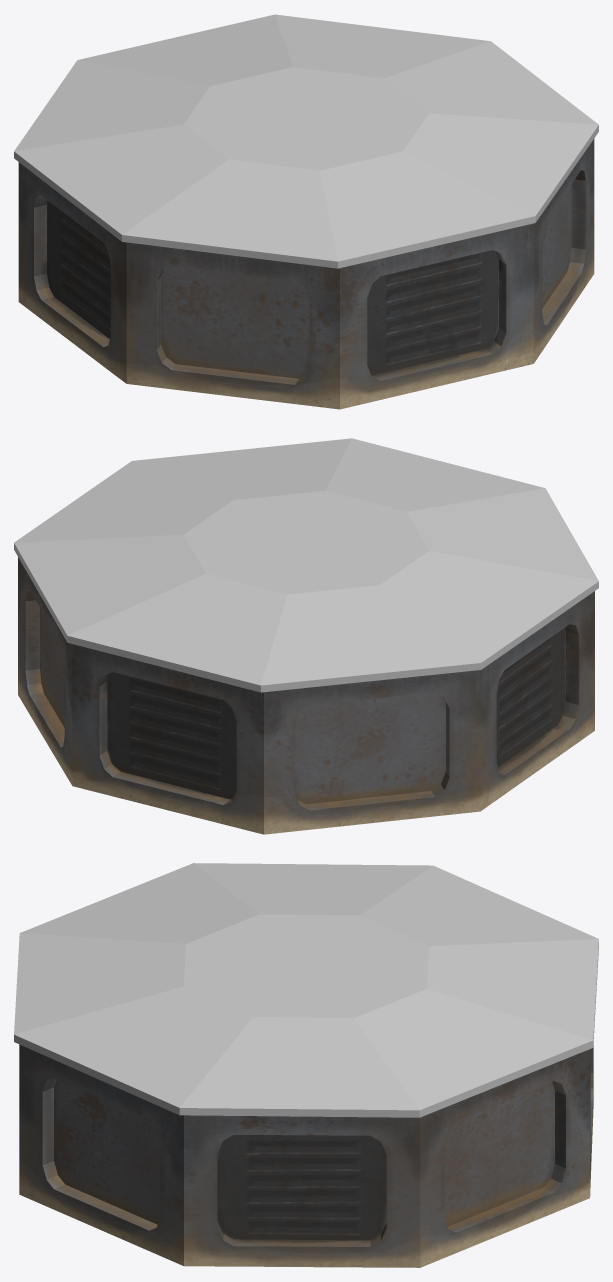
The model's file is Casa.FBX.
The picture shows the model from 3 angles, top to bottom: view 1: azimuth 30°, elevation 25°; view 2: azimuth 150°, elevation 25°; view 3: azimuth 270°, elevation 25°; orthographic projection. The views are drawn at different scales.
Parts seen in each view (by area): view 1: tejado, casa; view 2: tejado, casa; view 3: tejado, casa.
Boxes of the visible parts, box(x1,y1,x2,y2) form: tejado: box(14, 14, 598, 268); casa: box(18, 139, 594, 409); tejado: box(14, 438, 598, 692); casa: box(18, 557, 594, 834); tejado: box(14, 863, 598, 1117); casa: box(19, 1044, 593, 1267).
Size of the model in its own units: 322 by 109 by 322.
